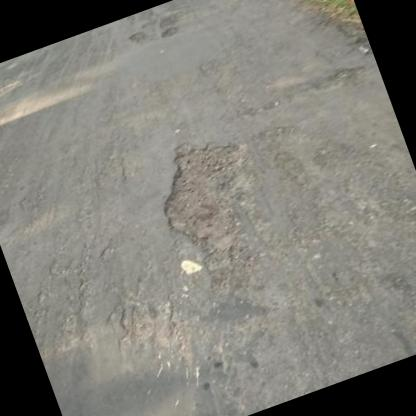pothole: (141, 125, 278, 276), (127, 26, 152, 48), (156, 12, 180, 30), (158, 25, 180, 40)
